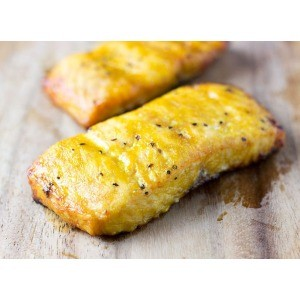salmon_brain food: (22, 86, 279, 234)
